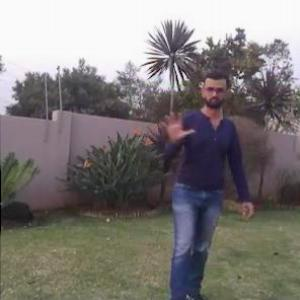follow_hand: (157, 106, 198, 143)
